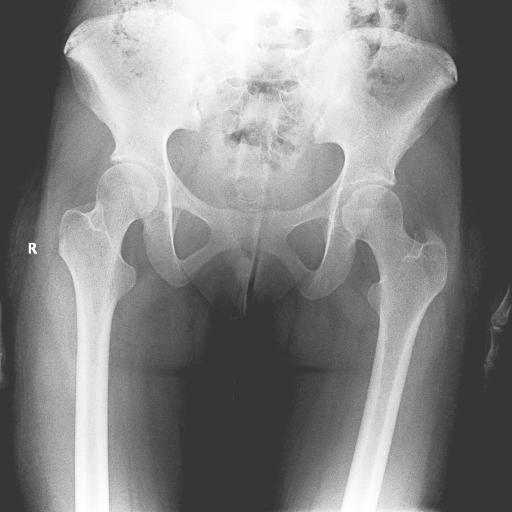normal: (345, 185, 449, 402), (59, 163, 158, 377)
